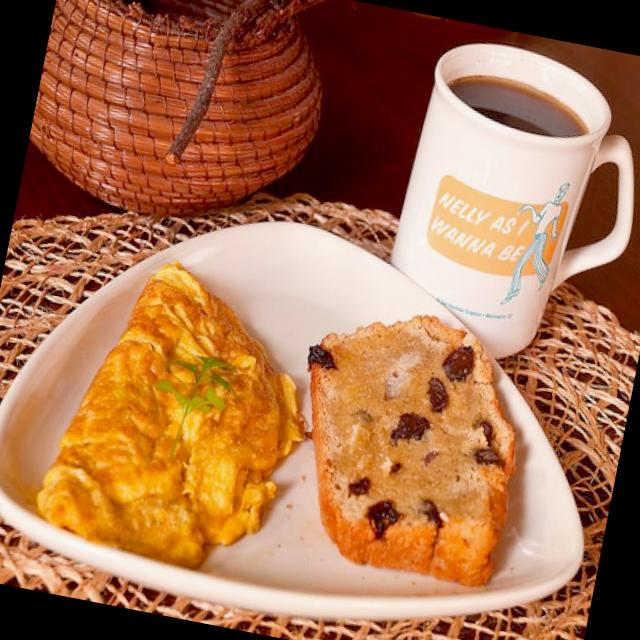Omelet: (31, 240, 324, 586)
